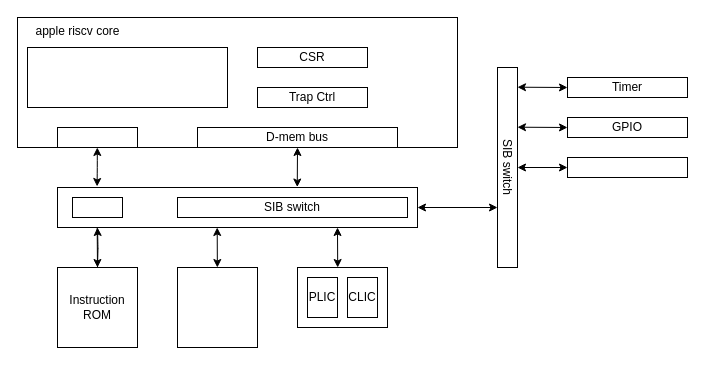
This 705x365 diagram has some shape labels left out. Here are the shapes that lost their labels. From the top down, the centre of each, then its label:
the point at 127,77: 5 Stage Pipeline
the point at 97,137: I-mem bus
the point at 627,167: Uart
the point at 97,207: SIB
the point at 217,307: Data RAM
